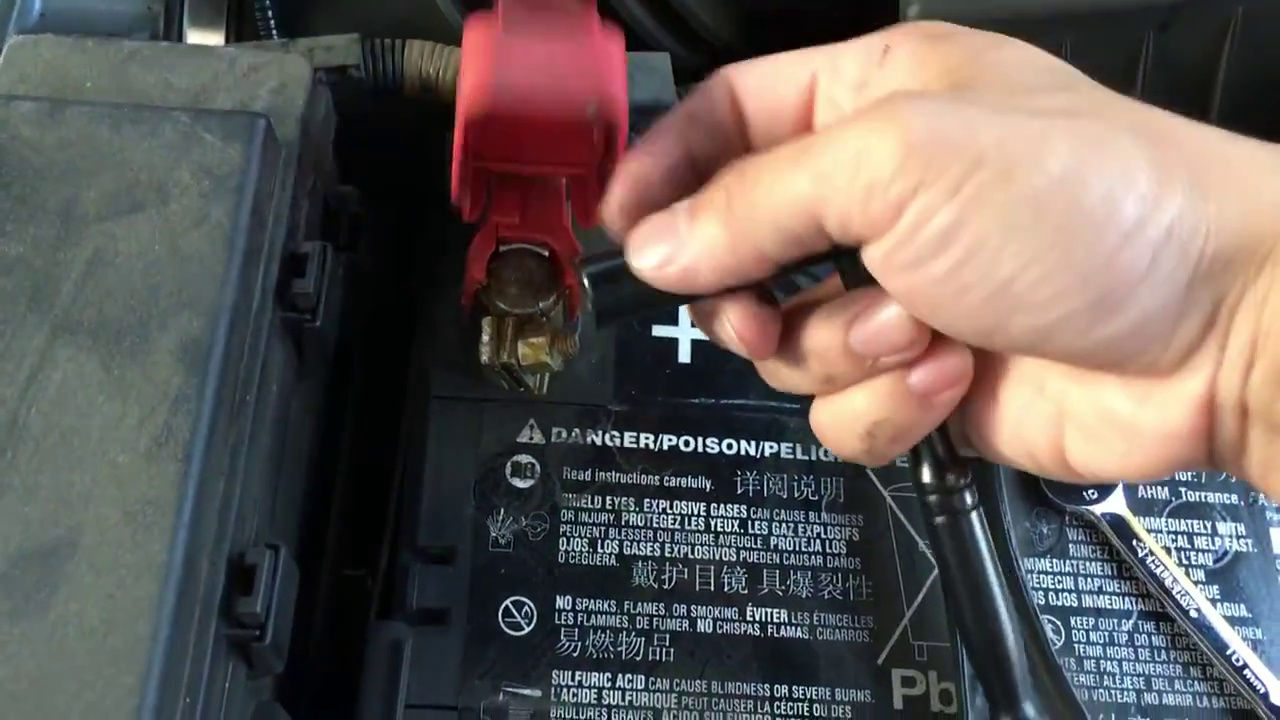battery: (431, 214, 1277, 717)
pos_connected: (425, 36, 606, 402)
